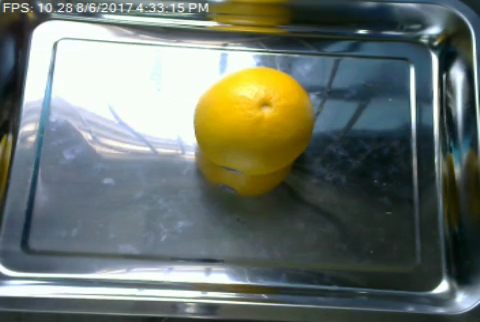Orange: (193, 67, 316, 174)
